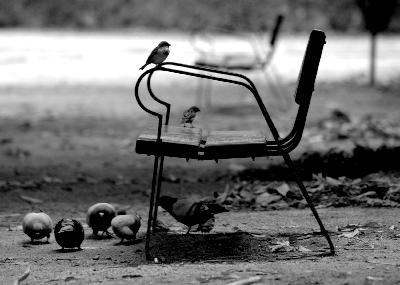bird: (155, 194, 232, 235), (84, 202, 119, 238), (112, 209, 143, 246), (54, 218, 87, 252), (21, 213, 55, 245), (139, 40, 172, 71), (181, 104, 204, 130)
chair: (133, 29, 339, 262)
